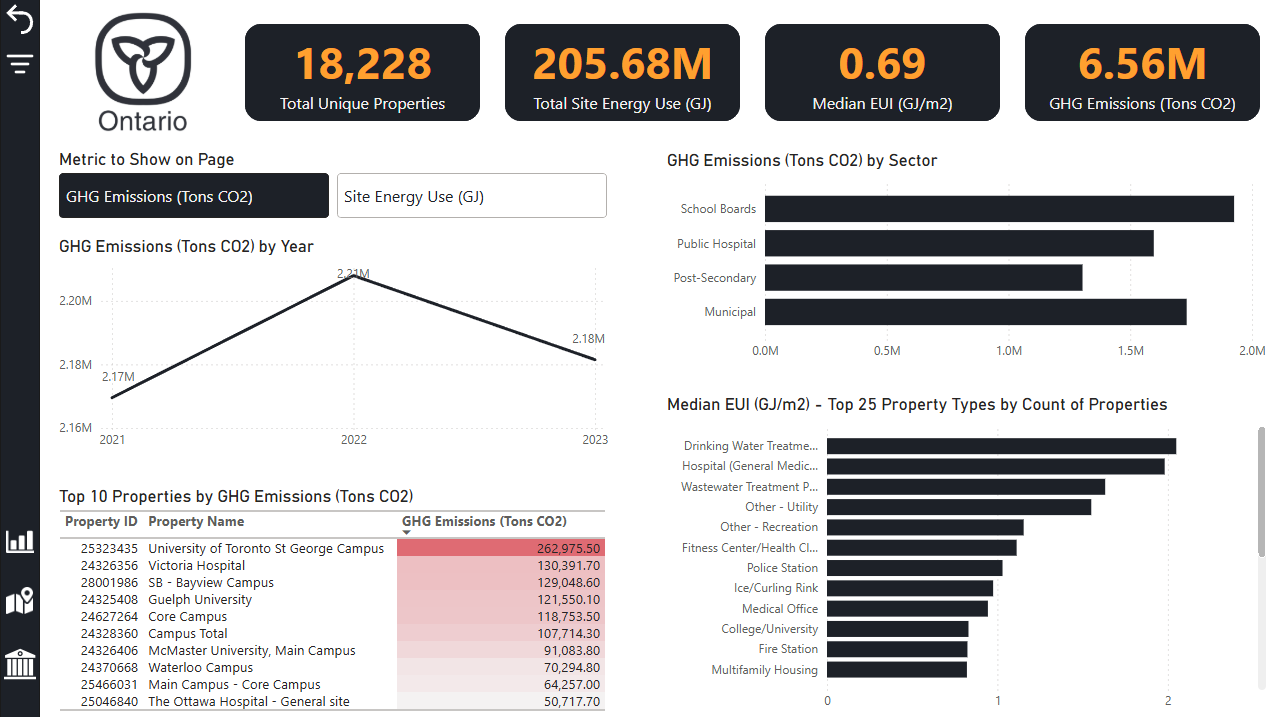

The page's visual inventory and layout, read from the dashboard file:
{"tool":"powerbi","page":{"name":"Exec Dashboard","canvas":[1280,720],"ordinal":0},"visuals":[{"type":"shape","box":[0,0,40,720],"z":0,"group":"g1"},{"type":"cardVisual","fields":{"Data":["Measure Table.Total Buildings","Measure Table.Total Site Energy Use - GJ","Measure Table.Average EUI","Measure Table.Total GHG Emissions (Tons CO2)"]},"box":[234.8,15.1,1036.1,116.9],"z":0},{"type":"actionButton","box":[2,522.1,36,36],"z":125,"group":"g1"},{"type":"actionButton","box":[2,584.1,35,35],"z":250,"group":"g1"},{"type":"actionButton","box":[0,645,40.3,40.3],"z":500,"group":"g1"},{"type":"actionButton","box":[0,39.9,40,50],"z":1000,"group":"g1"},{"type":"clusteredBarChart","fields":{"Category":["dim_building.Sector","dim_building.Subsector"],"Y":["Measures Table.Total GHG Emissions (Tons CO2)"]},"box":[662,150.5,609.4,219.4],"z":1000},{"type":"actionButton","box":[0,0,40,40],"z":2000,"group":"g1"},{"type":"image","box":[40.3,10.1,205.6,127],"z":2000},{"type":"tableEx","fields":{"Values":["dim_building.Portfolio Manager Property ID","dim_building.Property Name","Measures Table.Total GHG Emissions (Tons CO2)"]},"box":[54.4,486.8,558.4,232.8],"z":3000},{"type":"barChart","title":"Median EUI (GJ/m2) - Top 25 Property Types by Count of Properties","fields":{"Category":["dim_building.Primary Property Type - Self Selected"],"Y":["Measures Table.Median EUI (GJ/m2)"]},"box":[662.2,395.1,608.8,324.5],"z":7000},{"type":"lineChart","fields":{"Category":["dim_year.Year"],"Y":["Measures Table.Total GHG Emissions (Tons CO2)"]},"box":[54.4,236.9,558.4,221.7],"z":8000},{"type":"advancedSlicerVisual","title":"Metric to Show on Page","fields":{"Values":["Exec Parameter.Exec Parameter"]},"box":[54.4,150.2,558.4,73.6],"z":8250},{"type":"group","id":"g1","title":"Sidebar","box":[0,0,40.3,720],"z":8500}]}

Visuals, with their boxes on the page's 1280x720 design canvas (x1, y1, x2, y2). These are canvas units, not pixel positions in the 1279x717 screenshot, which may show the page scaled, cropped or inside an application window:
shape: l=0, t=0, r=40, b=720
cardVisual - Measure Table.Total Buildings x Measure Table.Total Site Energy Use - GJ: l=235, t=15, r=1271, b=132
actionButton: l=2, t=522, r=38, b=558
actionButton: l=2, t=584, r=37, b=619
actionButton: l=0, t=645, r=40, b=685
actionButton: l=0, t=40, r=40, b=90
clusteredBarChart - dim_building.Sector x dim_building.Subsector: l=662, t=150, r=1271, b=370
actionButton: l=0, t=0, r=40, b=40
image: l=40, t=10, r=246, b=137
tableEx - dim_building.Portfolio Manager Property ID x dim_building.Property Name: l=54, t=487, r=613, b=720
"Median EUI (GJ/m2) - Top 25 Property Types by Count of Properties" barChart: l=662, t=395, r=1271, b=720
lineChart - dim_year.Year x Measures Table.Total GHG Emissions (Tons CO2): l=54, t=237, r=613, b=459
"Metric to Show on Page" advancedSlicerVisual: l=54, t=150, r=613, b=224
"Sidebar" group: l=0, t=0, r=40, b=720
